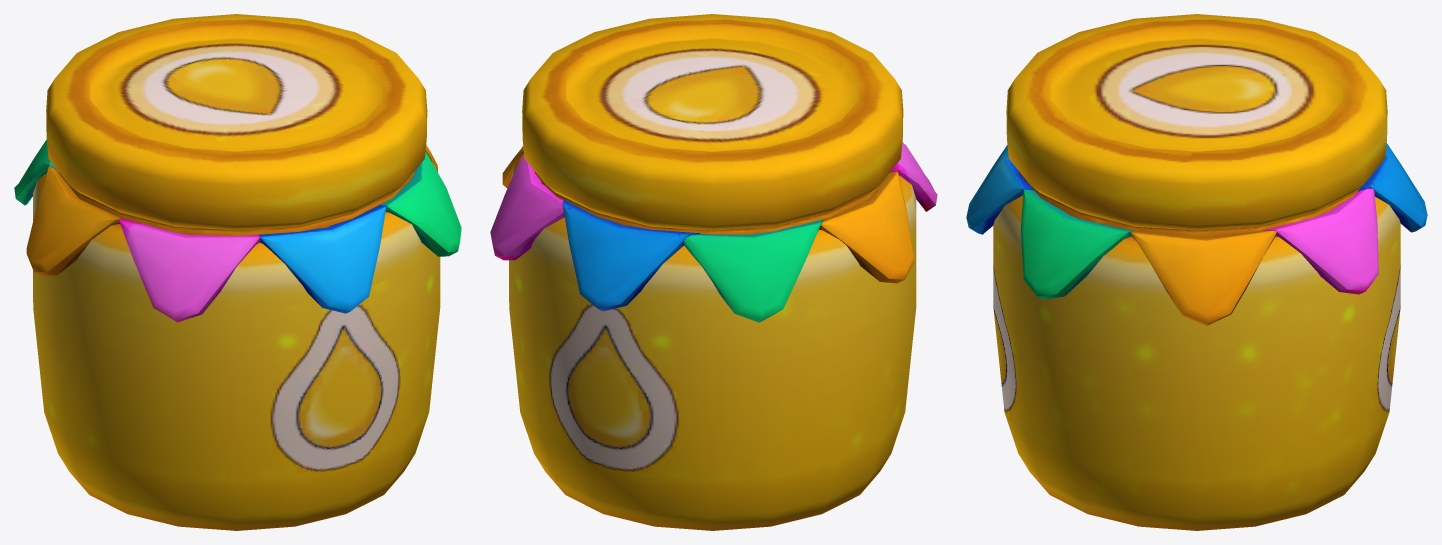
Rendered from JamJar_Yellow.glb.
The picture shows the model from 3 angles, left to right: view 1: azimuth 30°, elevation 25°; view 2: azimuth 150°, elevation 25°; view 3: azimuth 270°, elevation 25°; orthographic projection.
Bounding box in the file's own units: 1.1 × 0.991 × 1.1.
1 material, 1 textured.
